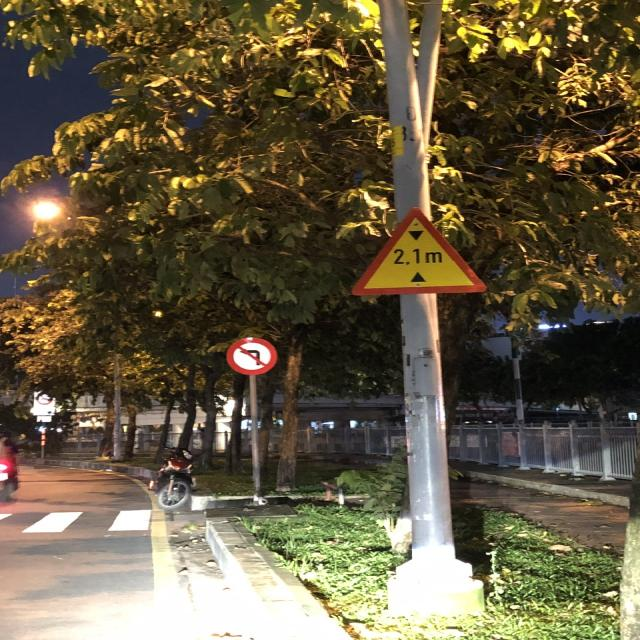Bien bao cam re trai: (217, 329, 286, 377)
Bien bao chieu cao tinh khong thuc te: (330, 204, 501, 298)
